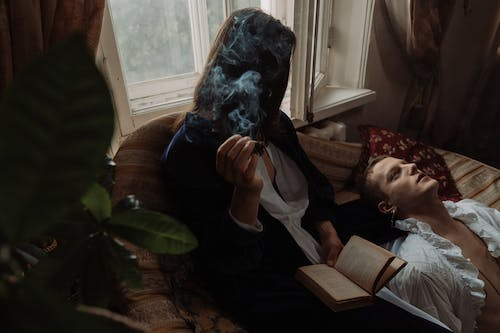cigarette: (250, 138, 266, 147)
